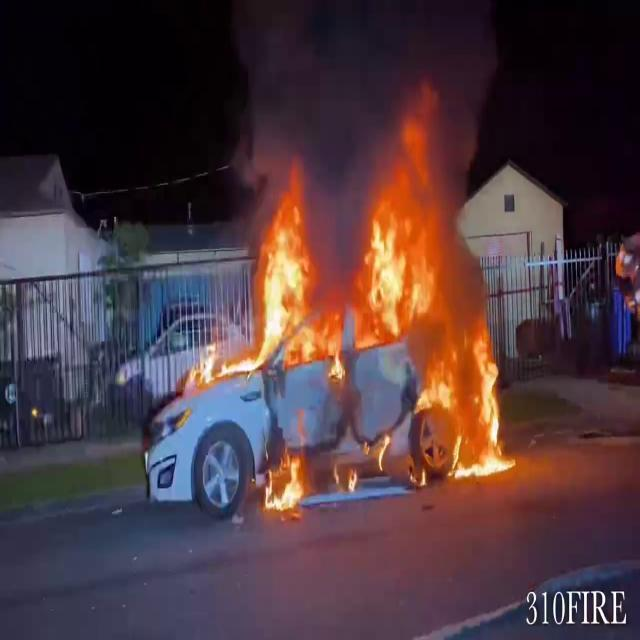Fire: (250, 133, 446, 380), (432, 324, 508, 475), (182, 319, 266, 394), (264, 447, 307, 515)
Smoke: (220, 0, 499, 222)
